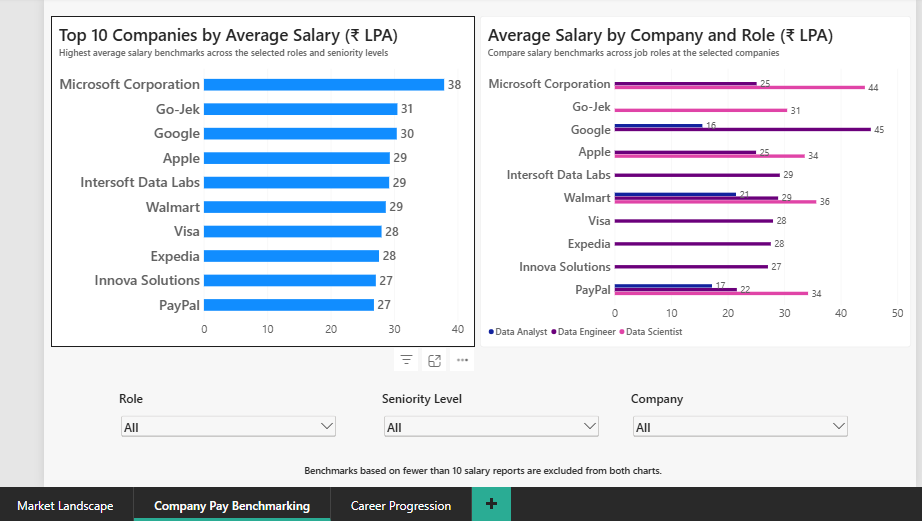

The dashboard page shown, as its layout file describes it:
{"tool":"powerbi","page":{"name":"Company Pay Benchmarking","canvas":[1920,1080],"ordinal":1},"visuals":[{"type":"clusteredBarChart","title":"Top 10 Companies by Average Salary (₹ LPA)","fields":{"Category":["companies.company_name"],"Y":["_Measures.Average Salary"]},"box":[15.4,41.9,934.5,729.6],"z":0},{"type":"clusteredBarChart","title":"Average Salary by Company and Role (₹ LPA)","fields":{"Category":["companies.company_name"],"Y":["_Measures.Average Salary"],"Series":["job_titles.base_role"]},"box":[961,41.9,950,729.6],"z":1000},{"type":"slicer","title":"Role","fields":{"Values":["job_titles.base_role"]},"box":[165.3,866.2,482.7,145.5],"z":2000},{"type":"slicer","title":"Seniority Level","fields":{"Values":["job_titles.seniority_level"]},"box":[745,866.2,482.7,145.5],"z":3000},{"type":"slicer","title":"Company","fields":{"Values":["companies.company_name"]},"box":[1293.8,866.2,482.7,145.5],"z":4000},{"type":"textbox","box":[15.4,1029.3,1904.3,33.1],"z":4001}]}

Visuals, with their boxes on the page's 1920x1080 design canvas (x1, y1, x2, y2). These are canvas units, not pixel positions in the 922x521 screenshot, which may show the page scaled, cropped or inside an application window:
"Top 10 Companies by Average Salary (₹ LPA)" clusteredBarChart: <bbox>15, 42, 950, 772</bbox>
"Average Salary by Company and Role (₹ LPA)" clusteredBarChart: <bbox>961, 42, 1911, 772</bbox>
"Role" slicer: <bbox>165, 866, 648, 1012</bbox>
"Seniority Level" slicer: <bbox>745, 866, 1228, 1012</bbox>
"Company" slicer: <bbox>1294, 866, 1776, 1012</bbox>
textbox: <bbox>15, 1029, 1920, 1062</bbox>
